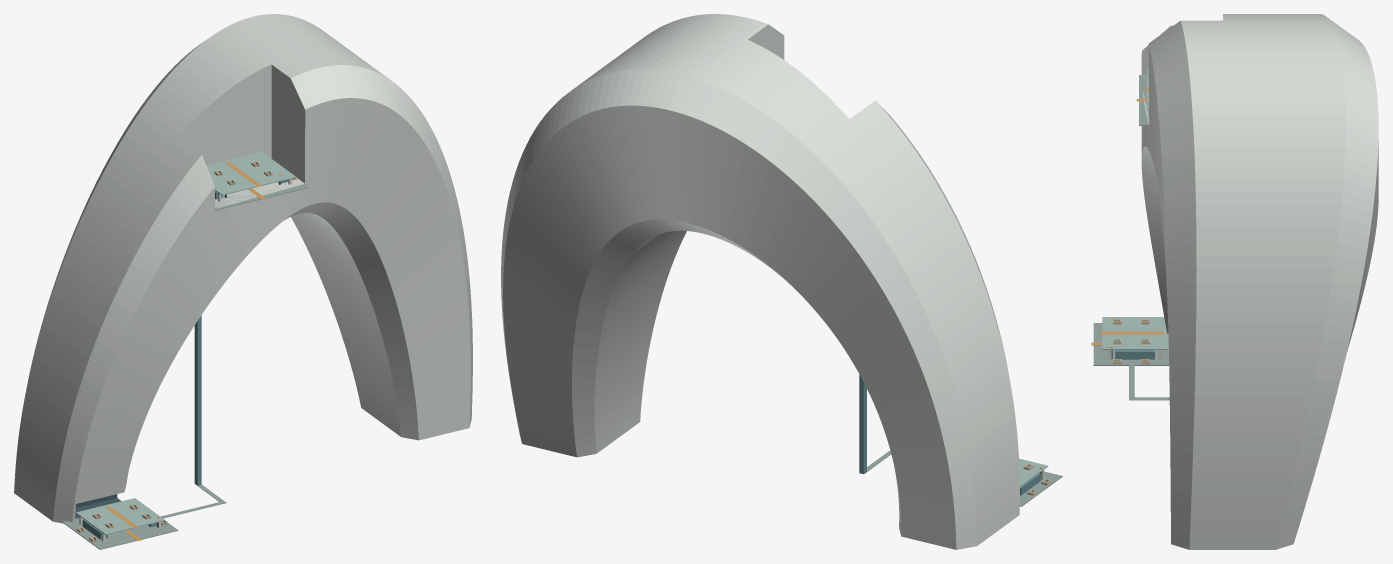
Rendered from selected.glb.
3 renders of one model, left to right at view 1: azimuth 30°, elevation 25°; view 2: azimuth 150°, elevation 25°; view 3: azimuth 270°, elevation 25°, orthographic. The views are drawn at different scales.
Parts seen in each view (by area): view 1: CIVIC_CATCHMENT_ENVELOPE, HIGH_SHARED_ROOF_UPPER_GROUND, GROUND_SHARED_ROOF_UPPER_GROUND, TRANSIT_RESERVATION_NOT_OPERATIONAL, GROUND_LOWER_GROUND, HIGH_LOWER_GROUND; view 2: CIVIC_CATCHMENT_ENVELOPE, TRANSIT_RESERVATION_NOT_OPERATIONAL; view 3: CIVIC_CATCHMENT_ENVELOPE, GROUND_SHARED_ROOF_UPPER_GROUND, GROUND_LOWER_GROUND, HIGH_LOWER_GROUND, GROUND_LIBRARY_CLINIC_1.
Part boxes in pixels (<box>): CIVIC_CATCHMENT_ENVELOPE: <box>14,14,472,523</box>; HIGH_SHARED_ROOF_UPPER_GROUND: <box>206,151,295,195</box>; GROUND_SHARED_ROOF_UPPER_GROUND: <box>76,498,164,534</box>; TRANSIT_RESERVATION_NOT_OPERATIONAL: <box>194,315,201,485</box>; GROUND_LOWER_GROUND: <box>62,518,178,549</box>; HIGH_LOWER_GROUND: <box>215,183,309,210</box>; CIVIC_CATCHMENT_ENVELOPE: <box>501,14,1019,549</box>; TRANSIT_RESERVATION_NOT_OPERATIONAL: <box>859,374,866,473</box>; CIVIC_CATCHMENT_ENVELOPE: <box>1141,14,1378,549</box>; GROUND_SHARED_ROOF_UPPER_GROUND: <box>1102,317,1168,349</box>; GROUND_LOWER_GROUND: <box>1093,323,1169,365</box>; HIGH_LOWER_GROUND: <box>1139,75,1149,125</box>; GROUND_LIBRARY_CLINIC_1: <box>1115,350,1154,359</box>.
Size of the model in its own units: 5694 by 5054 by 3046.
